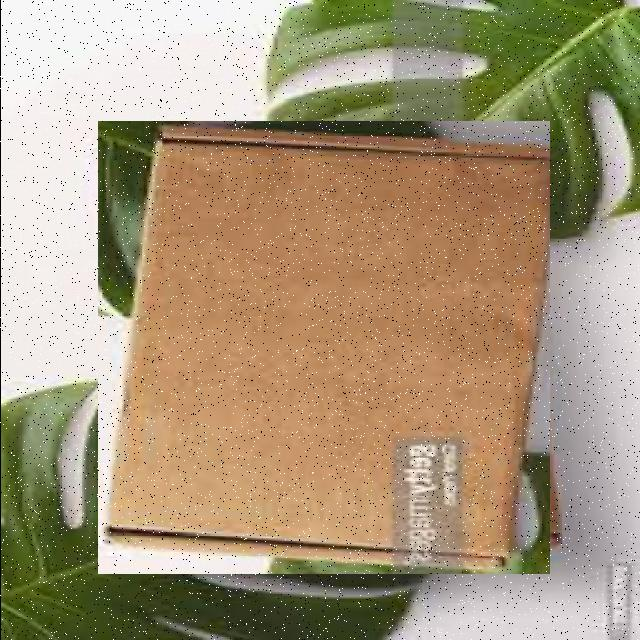normal: (97, 121, 549, 574)
